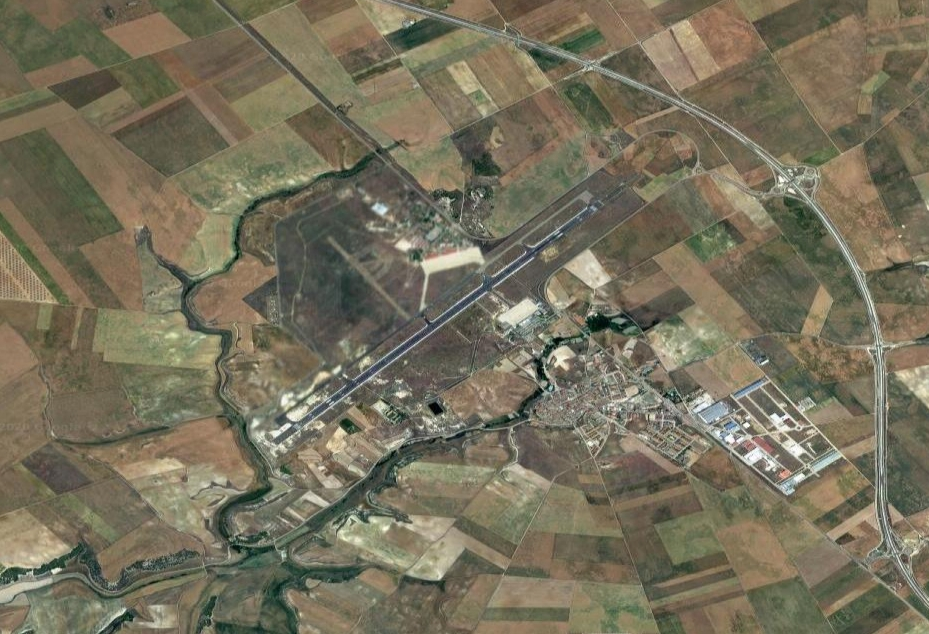airport: (268, 195, 606, 448)
industrial: (713, 383, 820, 475)
motorway: (870, 449, 929, 607), (774, 160, 838, 233), (614, 72, 709, 121), (830, 232, 881, 322), (390, 1, 507, 37), (505, 34, 617, 71), (705, 115, 781, 167), (866, 321, 893, 451)
